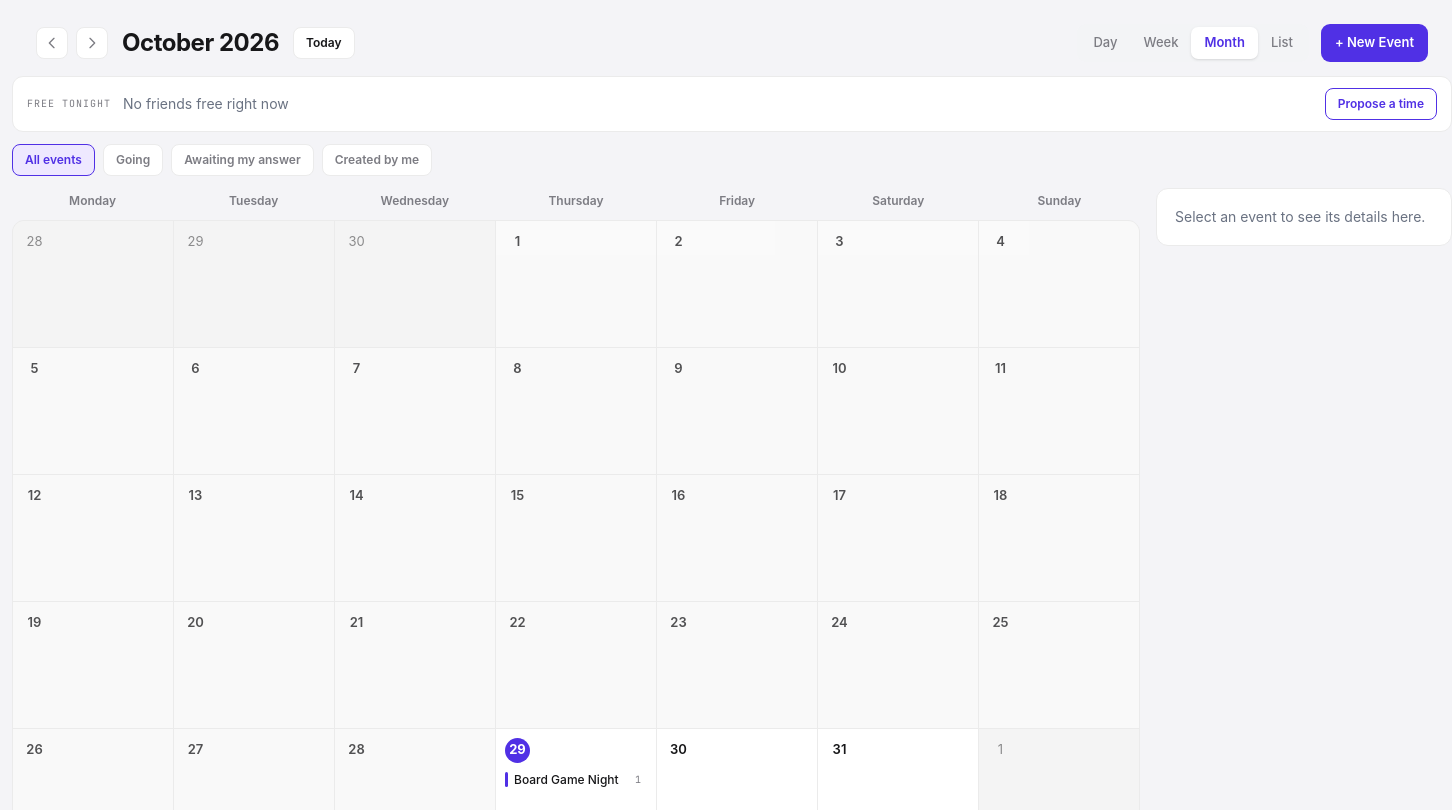
Calendar › selects an event into the peek panel on click
expect the text "Select an event to see its details here." is shown: met, box top-left (1175, 206), bottom-right (1433, 226)
What coordinates should you click on to do the following:
click the text "Board Game Night"
I would click on:
 (572, 780)
Its box is top-left (514, 770), bottom-right (629, 788).
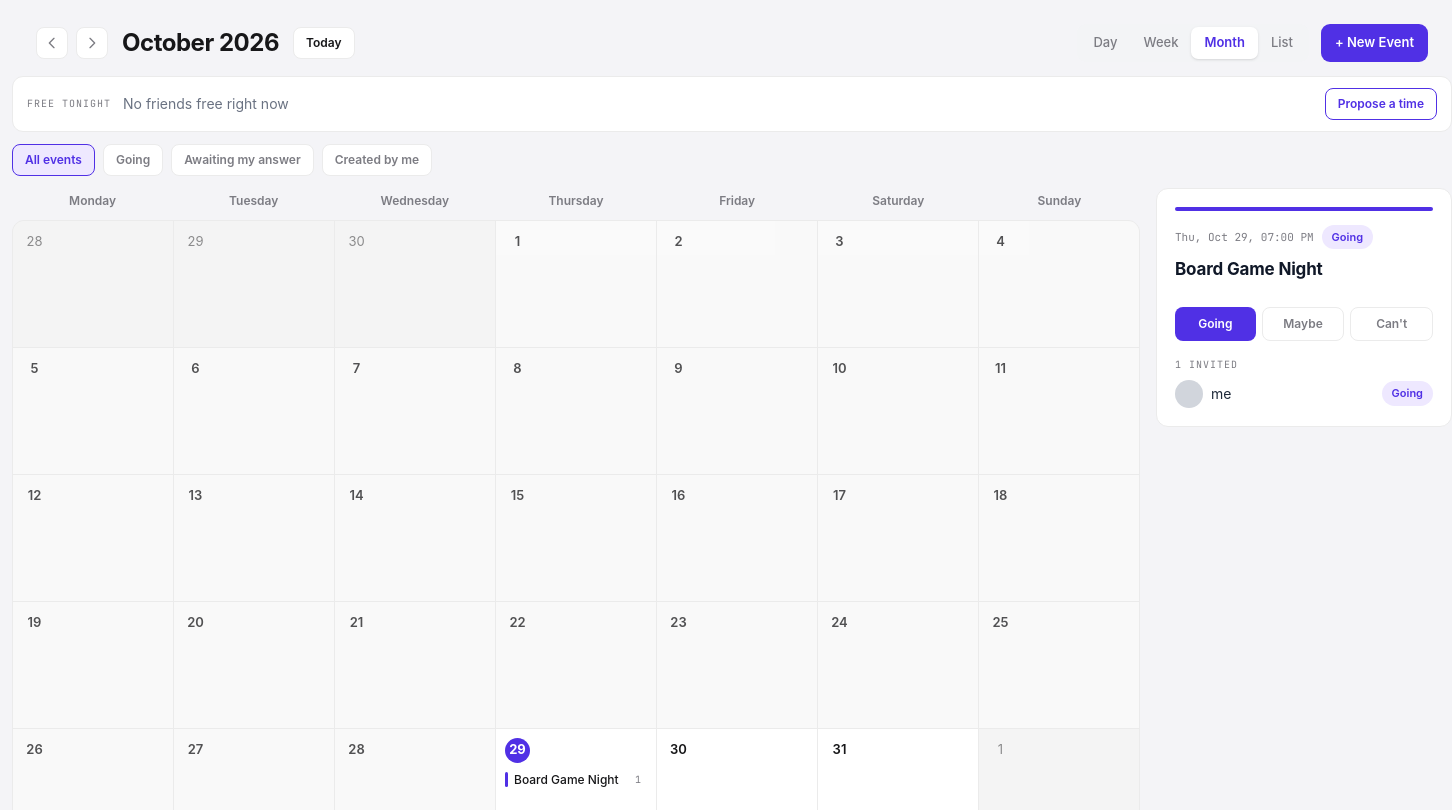
expect the text "1 invited" is shown: met, box top-left (1175, 358), bottom-right (1238, 370)
